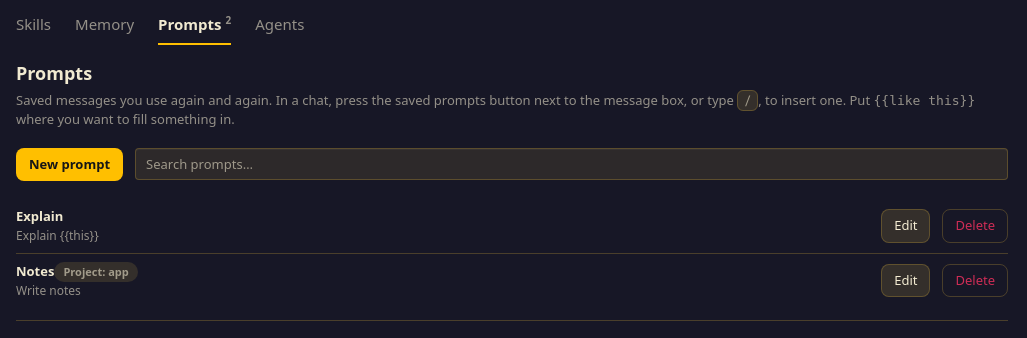
Test case: PromptsPage › lists prompts with a project badge, filters by search, and says when nothing matches
Expected: the text "Explain" is shown, 16,207 -> 63,225
Expected: the text "Project: app" is shown, 54,262 -> 138,282
Type "notes" into the field labelled "Search prompts" at (572, 164), box 135,148 -> 1008,180
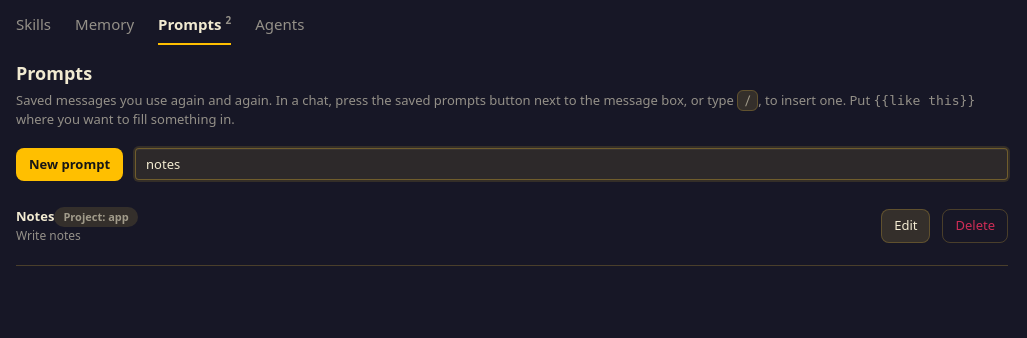
Now the text "Explain" is gone
Replace the text in the field named "Search prompts" with "zzz" at (572, 164), box 135,148 -> 1008,180
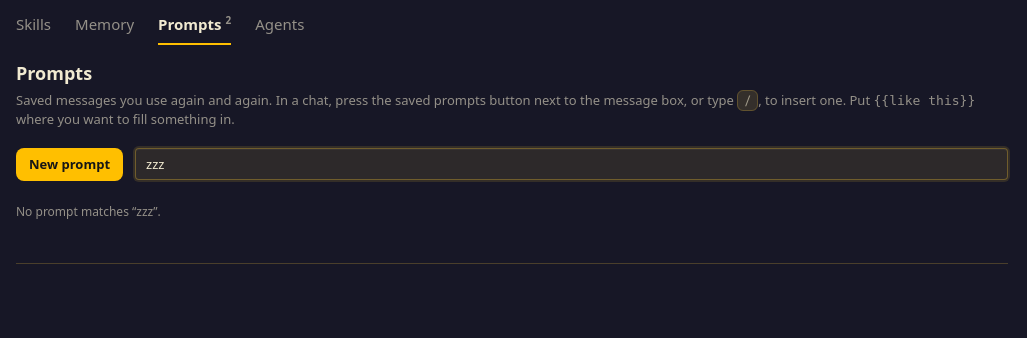
Now the text "No prompt matches “zzz”." is shown, box 16,203 -> 161,220
